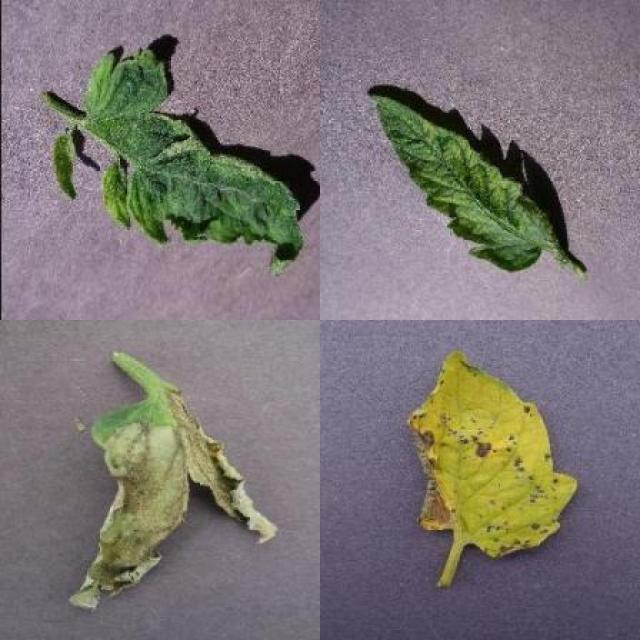Late Blight: (70, 398, 277, 616)
Mosaic Virus: (52, 47, 305, 280), (363, 91, 556, 272)
Septoria: (411, 346, 578, 556)
